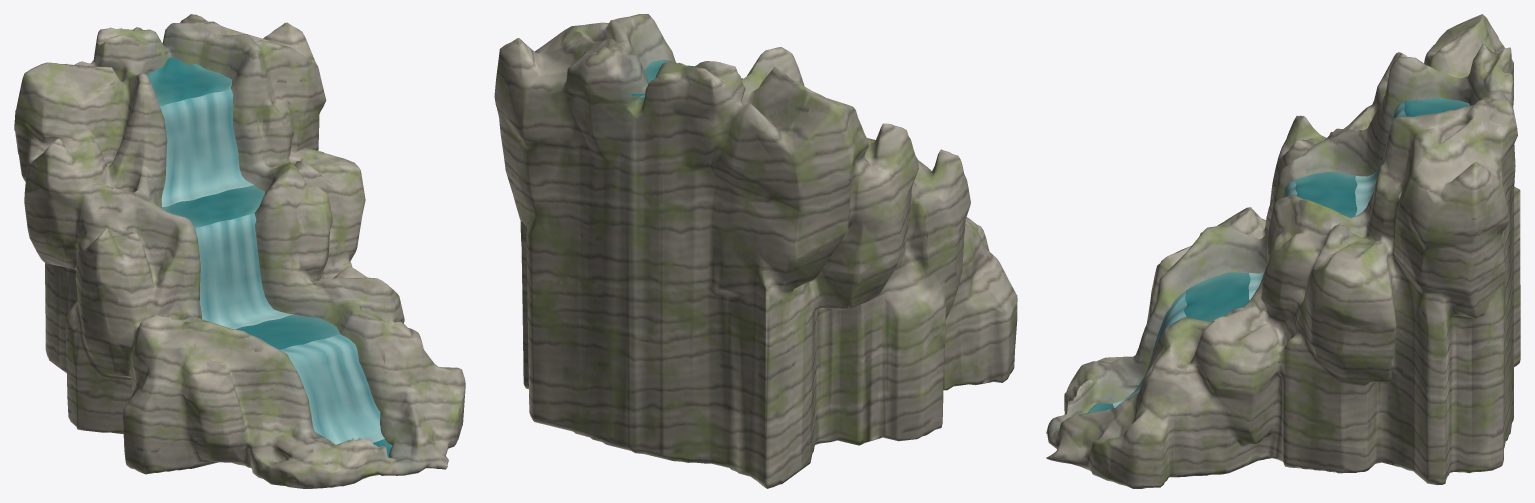
File: waterfall.glb
The picture shows the model from 3 angles, left to right: view 1: azimuth 30°, elevation 25°; view 2: azimuth 150°, elevation 25°; view 3: azimuth 270°, elevation 25°; orthographic projection. The views are drawn at different scales.
Parts seen in each view (by area): view 1: Cascade bedrock and fractured banks, cascade-water-drop-upper, cascade-water-drop-lower, cascade-water-drop-middle, cascade-water-pool-source, cascade-water-pool-upper, cascade-water-pool-lower; view 2: Cascade bedrock and fractured banks; view 3: Cascade bedrock and fractured banks, cascade-water-pool-lower, cascade-water-pool-upper, cascade-water-pool-source, cascade-water-drop-upper, cascade-water-drop-lower.
Boxes of the visible parts, x1,y1,x2,y2 form: Cascade bedrock and fractured banks: (14,14,465,488); cascade-water-drop-upper: (160,88,253,206); cascade-water-drop-lower: (280,334,384,444); cascade-water-drop-middle: (195,213,292,329); cascade-water-pool-source: (147,57,231,106); cascade-water-pool-upper: (162,185,264,227); cascade-water-pool-lower: (236,314,340,349); Cascade bedrock and fractured banks: (494,14,1017,488); Cascade bedrock and fractured banks: (1046,14,1520,488); cascade-water-pool-lower: (1184,272,1250,321); cascade-water-pool-upper: (1295,171,1357,217); cascade-water-pool-source: (1404,97,1469,116); cascade-water-drop-upper: (1355,101,1406,216); cascade-water-drop-lower: (1113,291,1186,408).
Bounding box in the file's own units: 6.42 × 6.39 × 7.97.
3 materials, 1 textured.
